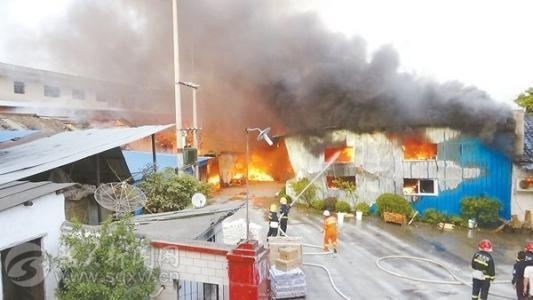fire: (210, 152, 278, 184), (402, 138, 436, 160), (326, 144, 354, 162)
